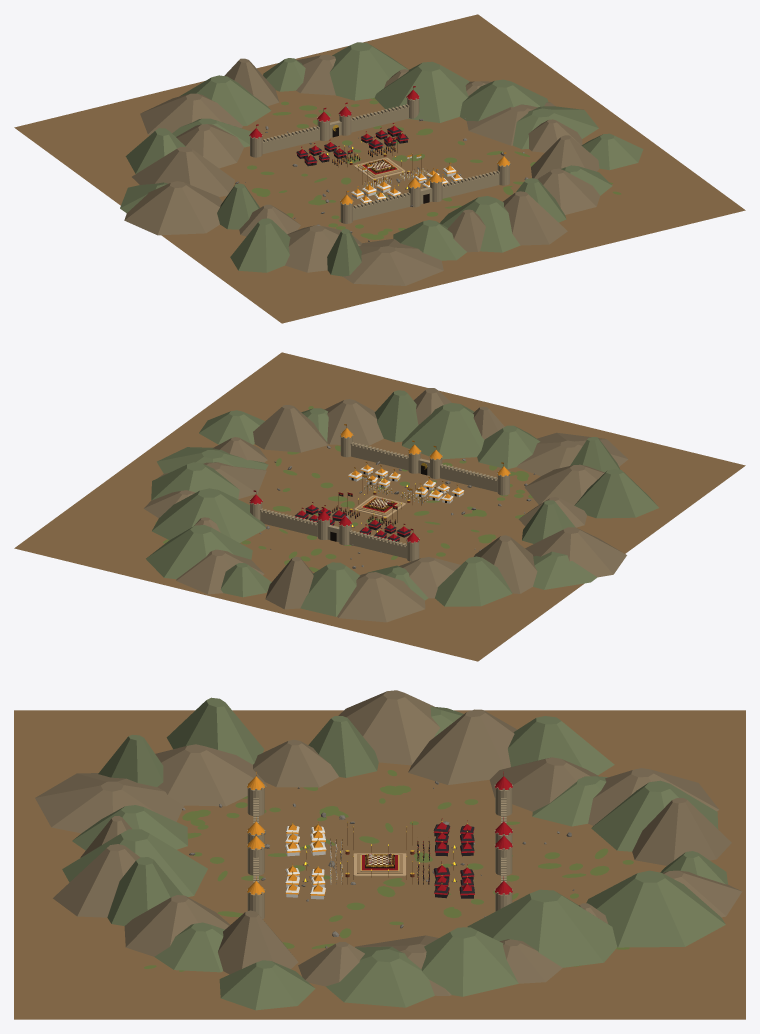
The model's file is indian_royal_lego_chess.glb.
3 renders of one model, top to bottom at view 1: azimuth 30°, elevation 25°; view 2: azimuth 150°, elevation 25°; view 3: azimuth 270°, elevation 25°, orthographic. The views are drawn at different scales.
Visible parts, largest first — view 1: Ground, Hill17, Hill4, Hill23, Hill6, Hill15, Hill20, Hill11, Hill27, Hill2, Hill26, Hill10 (+21 smaller); view 2: Ground, Hill4, Hill26, Hill11, Hill6, Hill20, Hill14, Hill17, Hill31, Hill23, Hill10, Hill15 (+21 smaller); view 3: Ground, Hill6, Hill4, Hill15, Hill23, Hill21, Hill17, Hill2, Hill0, Hill9, Hill14, Hill10 (+25 smaller).
Boxes of the visible parts, x1=… form: Ground: x1=14, y1=14, x2=745, y2=323; Hill17: x1=124, y1=181, x2=222, y2=235; Hill4: x1=374, y1=61, x2=469, y2=122; Hill23: x1=343, y1=238, x2=443, y2=285; Hill6: x1=329, y1=42, x2=408, y2=100; Hill15: x1=132, y1=147, x2=234, y2=196; Hill20: x1=230, y1=218, x2=290, y2=272; Hill11: x1=140, y1=93, x2=242, y2=134; Hill27: x1=503, y1=191, x2=567, y2=245; Hill2: x1=459, y1=79, x2=548, y2=121; Hill26: x1=440, y1=196, x2=520, y2=252; Hill10: x1=179, y1=75, x2=271, y2=125; Ground: x1=14, y1=352, x2=745, y2=661; Hill4: x1=152, y1=488, x2=266, y2=542; Hill26: x1=402, y1=402, x2=484, y2=459; Hill11: x1=337, y1=572, x2=425, y2=622; Hill6: x1=146, y1=525, x2=252, y2=579; Hill20: x1=574, y1=469, x2=658, y2=518; Hill14: x1=435, y1=556, x2=512, y2=606; Hill17: x1=525, y1=527, x2=626, y2=577; Hill31: x1=253, y1=405, x2=327, y2=452; Hill23: x1=516, y1=432, x2=628, y2=476; Hill10: x1=300, y1=562, x2=360, y2=616; Hill15: x1=474, y1=535, x2=537, y2=593; Ground: x1=14, y1=710, x2=745, y2=1019; Hill6: x1=586, y1=870, x2=725, y2=947; Hill4: x1=467, y1=889, x2=617, y2=967; Hill15: x1=408, y1=709, x2=517, y2=784; Hill23: x1=35, y1=773, x2=184, y2=833; Hill21: x1=155, y1=744, x2=266, y2=806; Hill17: x1=338, y1=690, x2=440, y2=765; Hill2: x1=421, y1=927, x2=518, y2=996; Hill0: x1=325, y1=946, x2=434, y2=1007; Hill9: x1=632, y1=798, x2=731, y2=865; Hill14: x1=508, y1=716, x2=614, y2=775; Hill10: x1=591, y1=780, x2=718, y2=851.
Bounding box in the file's own units: 267 × 19.78 × 260.
69 materials, 16 textured.
